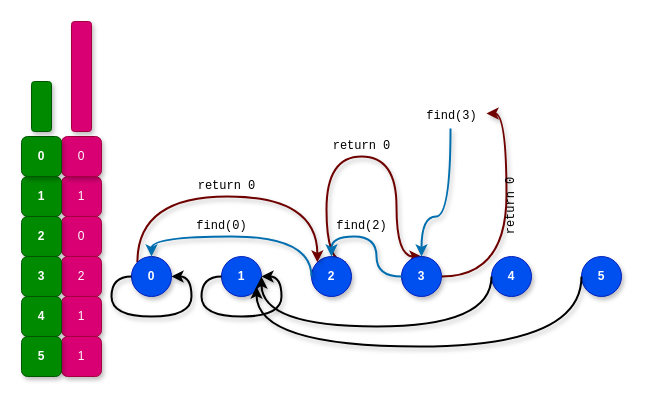
Image size: 645x401. Some labels were removed from this diagram. The shapes that lost their labels are listed below. From the top down, each one's centre as x and y in pixels, then its label:
[82,77]: representative
[42,107]: index
